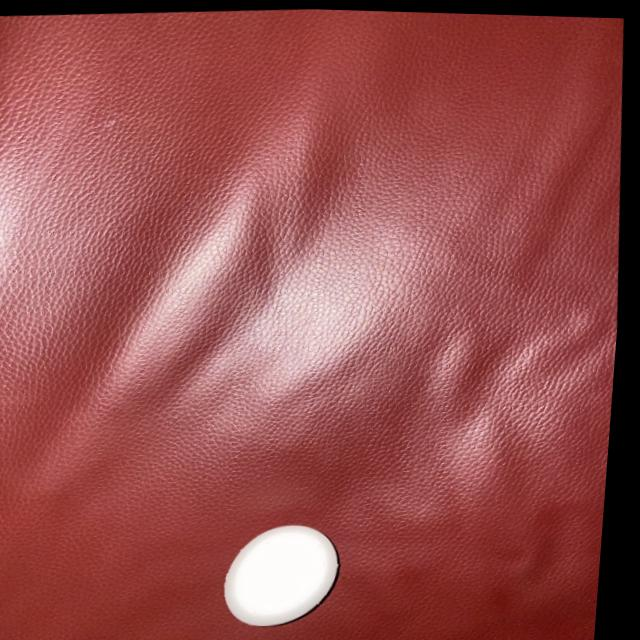egg: (215, 511, 360, 638)
